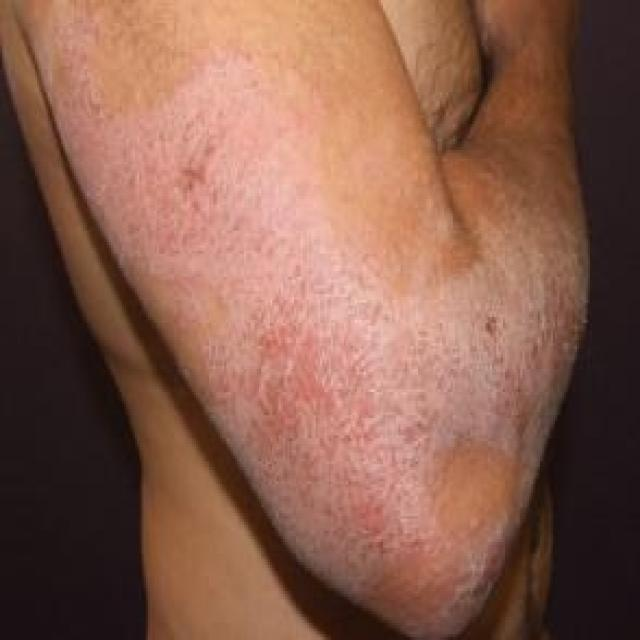Eczema: (39, 12, 580, 588)
